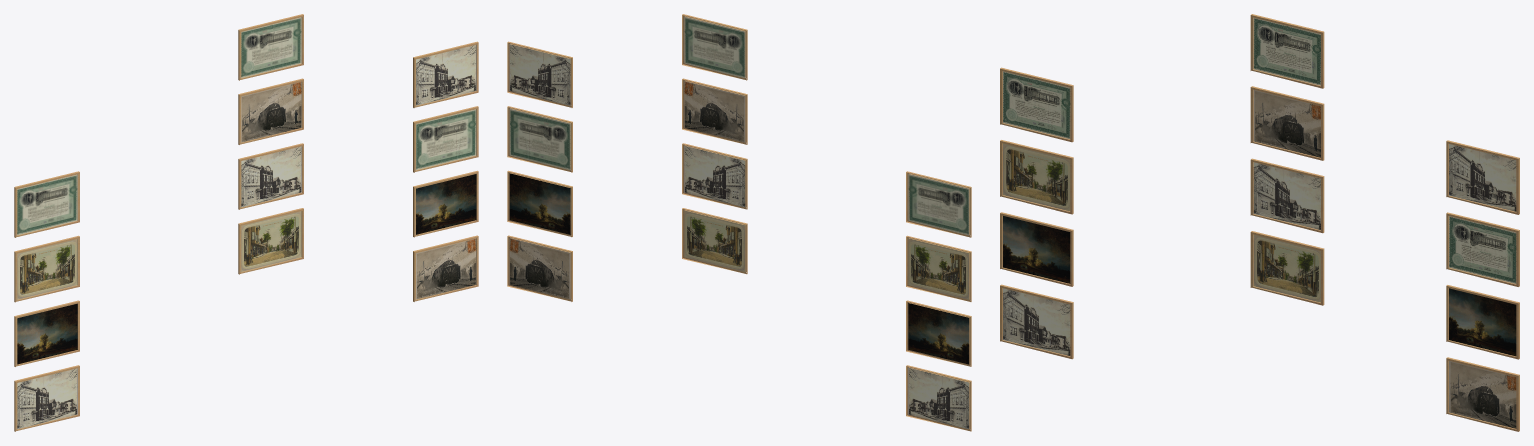
Rendered from hua.fbx.
3 renders of one model, left to right at view 1: azimuth 30°, elevation 25°; view 2: azimuth 150°, elevation 25°; view 3: azimuth 330°, elevation 25°, orthographic. The views are drawn at different scales.
Parts seen in each view (by area): view 1: hua; view 2: hua; view 3: hua.
Boxes of the visible parts, box(x1,y1,x2,y2) form: hua: box(14, 14, 478, 431); hua: box(507, 14, 971, 431); hua: box(1000, 14, 1519, 431).
Size of the model in its own units: 229 by 164 by 1.04.
